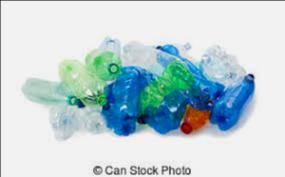Plastic: (135, 58, 192, 114), (137, 87, 193, 140), (215, 72, 258, 138), (20, 70, 83, 115), (57, 57, 109, 109), (101, 68, 136, 142), (199, 46, 245, 88), (81, 47, 125, 82), (51, 102, 81, 148), (76, 102, 107, 140), (181, 100, 211, 138)
